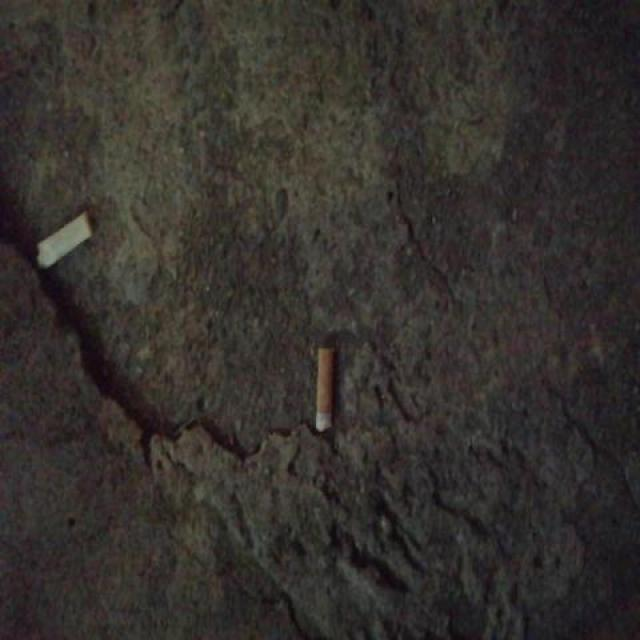non-organic waste: (32, 205, 97, 274), (310, 344, 339, 436)
